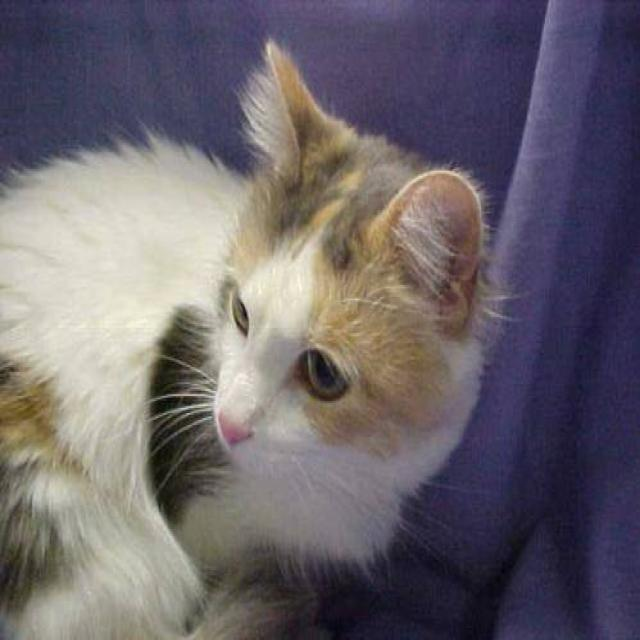cat: (0, 36, 516, 638)
